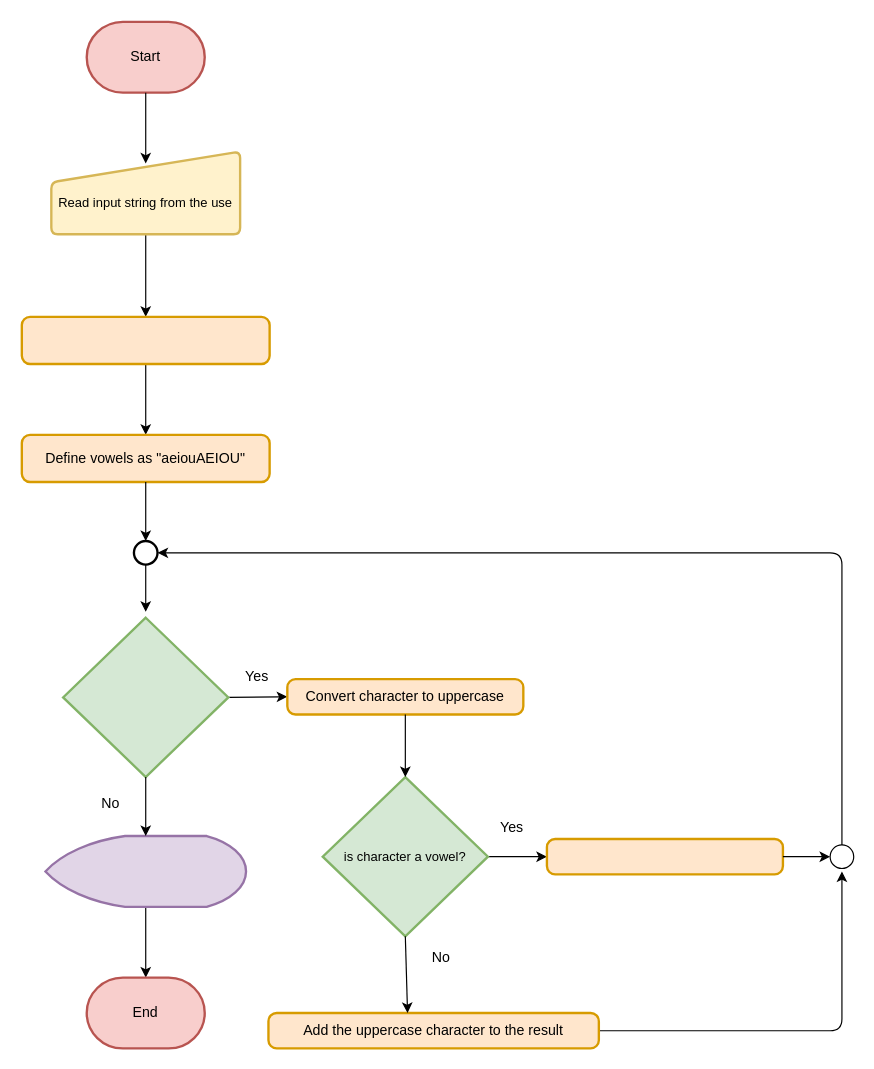
Image size: 874x1069. Some labels were removed from this diagram. Each missing label, with the centre of its shape:
"Add an asterisk to the result" goes at (x=664, y=856).
"Initialize an empty string for the result" goes at (x=145, y=340).
"More characters in string?" goes at (x=145, y=697).
"Print the modified string" goes at (x=145, y=870).
